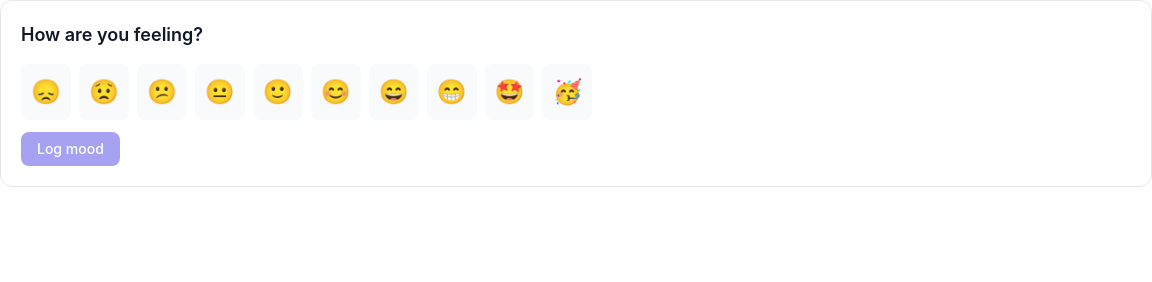
Test: MoodEntryWidget › shows submitted state after successful submission
The width and height of the screenshot is (1152, 282).
Click the button with class "emoji-btn" showing "😄" at (394,92), box [369,64,418,120]
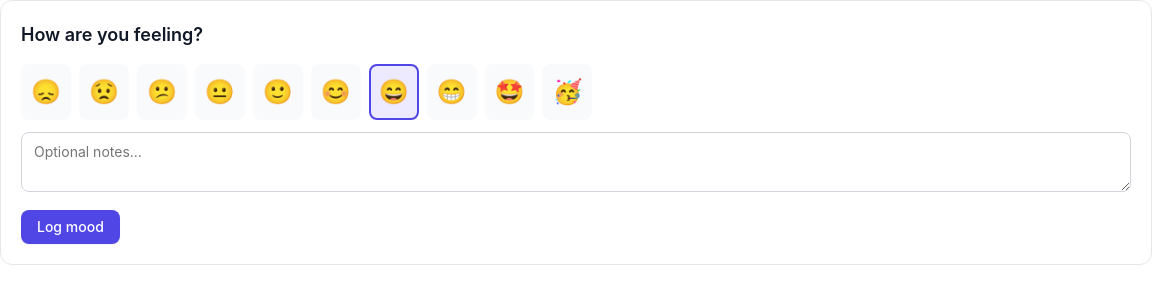
Click the button "Log mood" at (70,227), box [21,210,120,244]
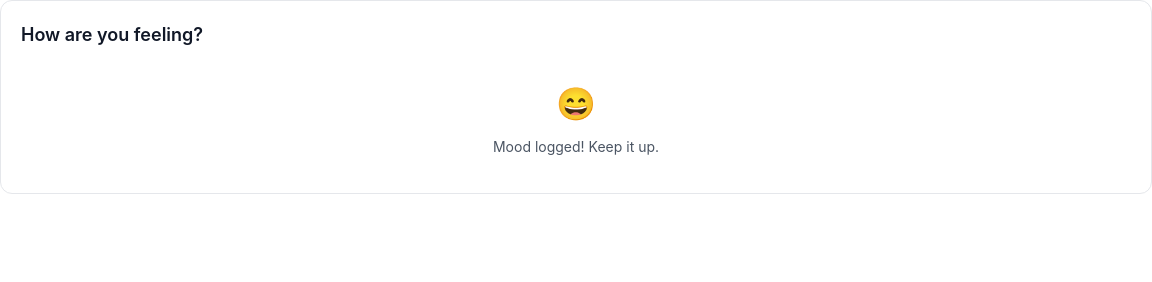
Check: the element with class "submitted-state" is shown, box [493,84,659,155]
Check: the text with class "submitted-text" reads "Mood logged! Keep it up.", box [493,138,659,155]
